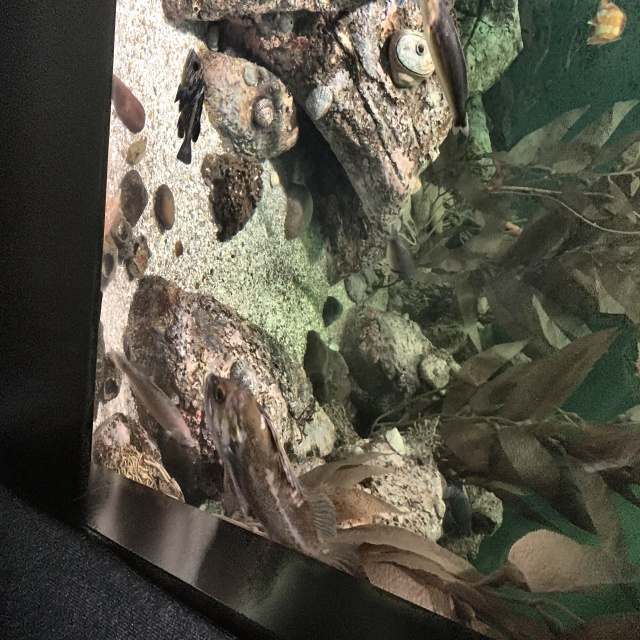fish: (200, 367, 358, 584), (415, 0, 473, 141), (169, 45, 209, 166), (586, 0, 626, 48)
